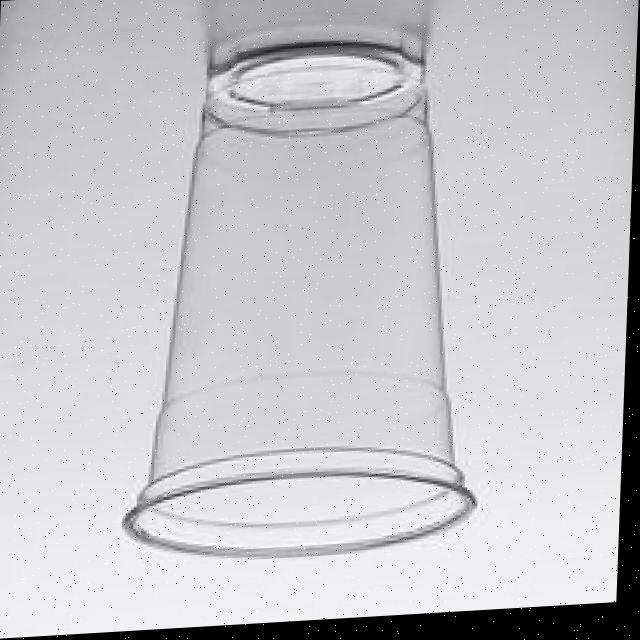cup: (127, 34, 480, 561)
